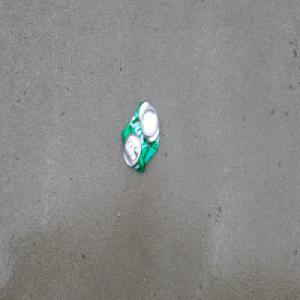SodaCan: (121, 99, 161, 174)
